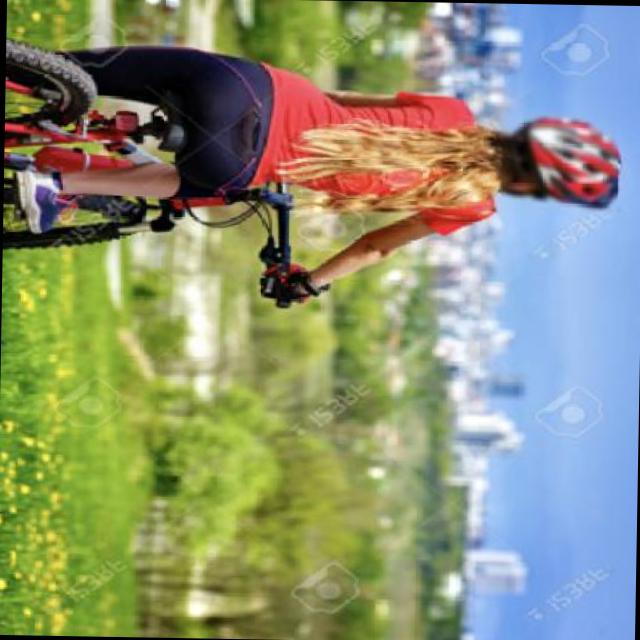With Helmet: (497, 107, 618, 214)
